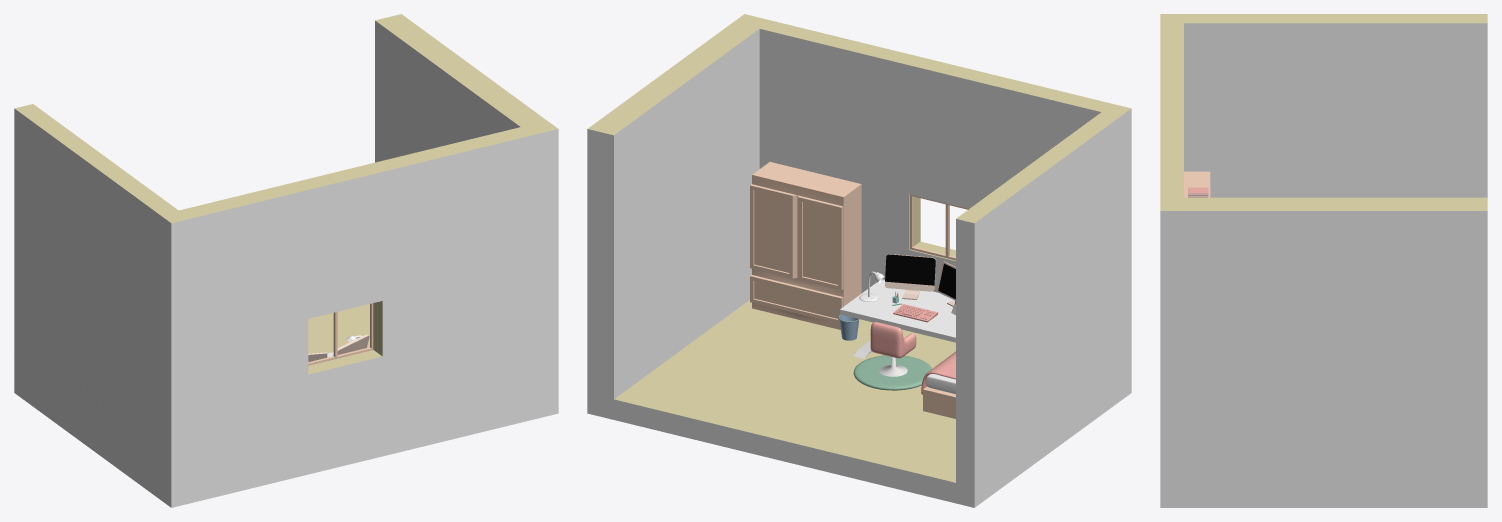
File: Study_Room_17.glb
3 views of the same model, side by side, from view 1: azimuth 30°, elevation 25°; view 2: azimuth 150°, elevation 25°; view 3: azimuth 270°, elevation 25° (orthographic). The views are drawn at different scales.
Parts seen in each view (by area): view 1: Room, Window Frame; view 2: Room, Closet, Table Top, Rug, Desktop Screen, Chair, Bedframe, Window Frame; view 3: Room, Shelf.001.
Boxes of the visible parts, x1,y1,x2,y2 form: Room: (14, 14, 558, 507); Window Frame: (308, 303, 373, 365); Room: (587, 14, 1131, 507); Closet: (750, 162, 861, 329); Table Top: (840, 279, 955, 342); Rug: (853, 355, 931, 390); Desktop Screen: (885, 254, 935, 285); Chair: (870, 322, 916, 358); Bedframe: (923, 386, 955, 418); Window Frame: (910, 194, 968, 260); Room: (1160, 14, 1487, 507); Shelf.001: (1184, 171, 1210, 197).
Bounding box in the file's own units: 27.72 × 19.48 × 19.48.
